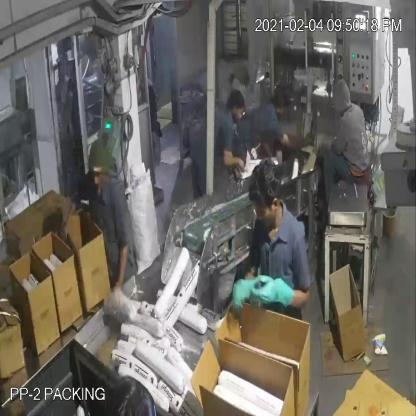glove: (254, 266, 308, 326), (226, 259, 260, 315)
no_glove: (54, 181, 92, 245), (103, 226, 134, 303), (278, 126, 319, 158), (219, 147, 245, 176)
